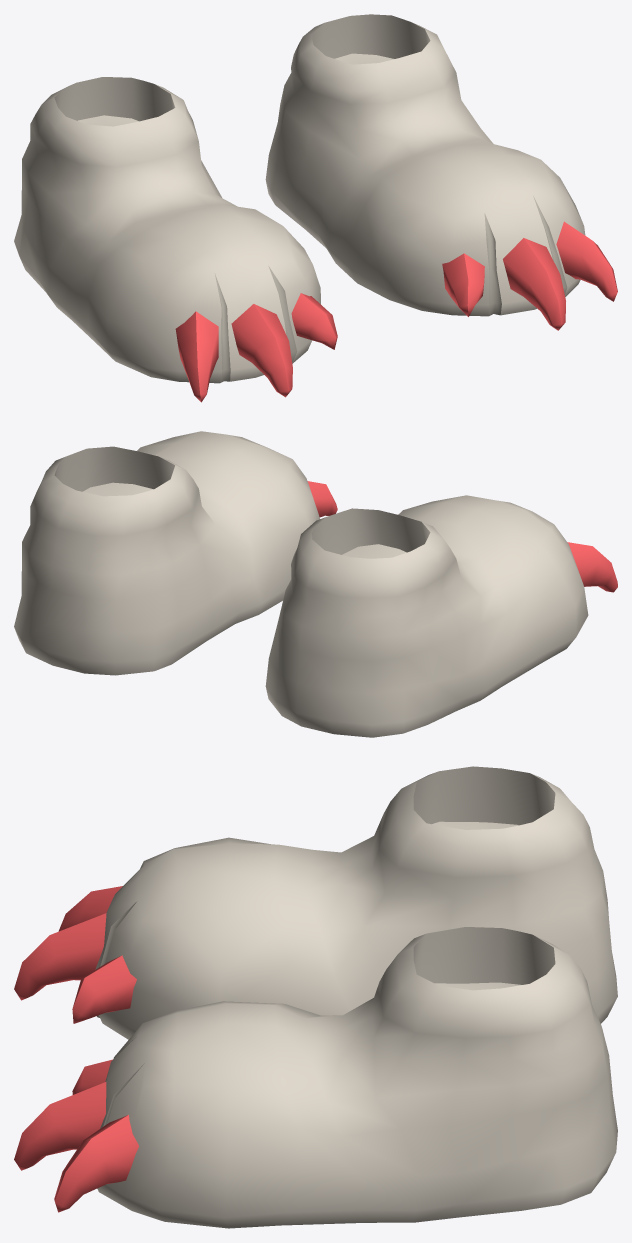
File: Shoes_02_01.fbx
The picture shows the model from 3 angles, top to bottom: view 1: azimuth 30°, elevation 25°; view 2: azimuth 150°, elevation 25°; view 3: azimuth 270°, elevation 25°; orthographic projection. The views are drawn at different scales.
Parts seen in each view (by area): view 1: Shoes_02_01; view 2: Shoes_02_01; view 3: Shoes_02_01.
Boxes of the visible parts, x1,y1,x2,y2 form: Shoes_02_01: (14,14,617,402); Shoes_02_01: (14,431,617,737); Shoes_02_01: (14,766,617,1228).
Bounding box in the file's own units: 31.55 × 10.68 × 27.56.
